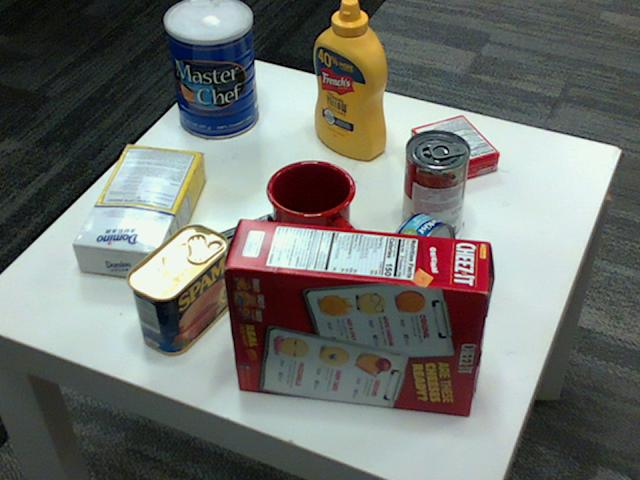cracker_box: (222, 218, 487, 413)
gelatin_box: (412, 115, 500, 183)
large_marker: (199, 204, 302, 259)
master_chef_can: (162, 0, 256, 138)
mug: (265, 157, 358, 265)
mustard_bottle: (313, 0, 386, 160)
potted_meat_can: (127, 224, 229, 355)
sugar_box: (73, 142, 205, 276)
tomato_soup_can: (401, 130, 469, 240)
tuna_fish_can: (380, 212, 455, 300)
